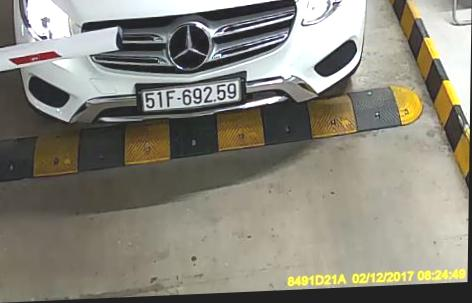License_Plate: (137, 76, 245, 117)
